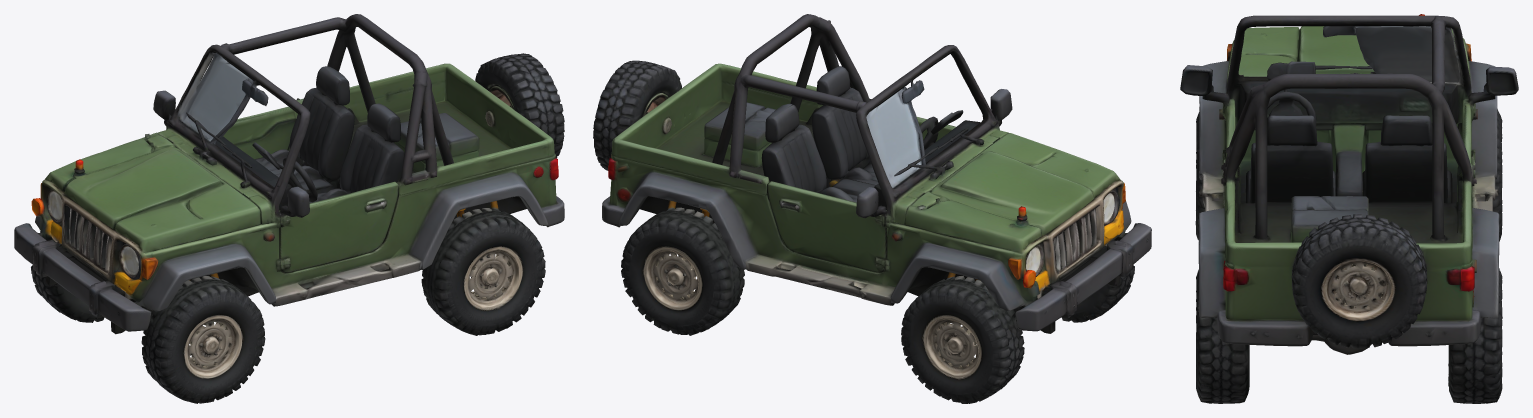
File: 12_绿色越野车_2048.fbx
3 views of the same model, side by side, from view 1: azimuth 30°, elevation 25°; view 2: azimuth 150°, elevation 25°; view 3: azimuth 270°, elevation 25° (orthographic). The views are drawn at different scales.
Parts seen in each view (by area): view 1: tripo_node_49ba154b; view 2: tripo_node_49ba154b; view 3: tripo_node_49ba154b.
Part boxes in pixels (x1,y1,x2,y2): tripo_node_49ba154b: [14, 14, 564, 403]; tripo_node_49ba154b: [593, 14, 1151, 403]; tripo_node_49ba154b: [1180, 14, 1518, 403].
Bounding box in the file's own units: 0.9808 × 0.5129 × 0.5249.
